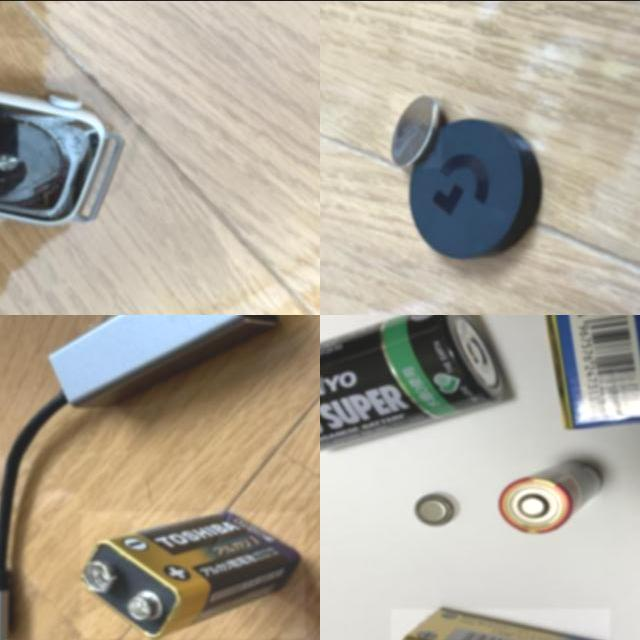9V: (81, 511, 305, 638), (542, 314, 640, 429), (391, 608, 610, 640)
